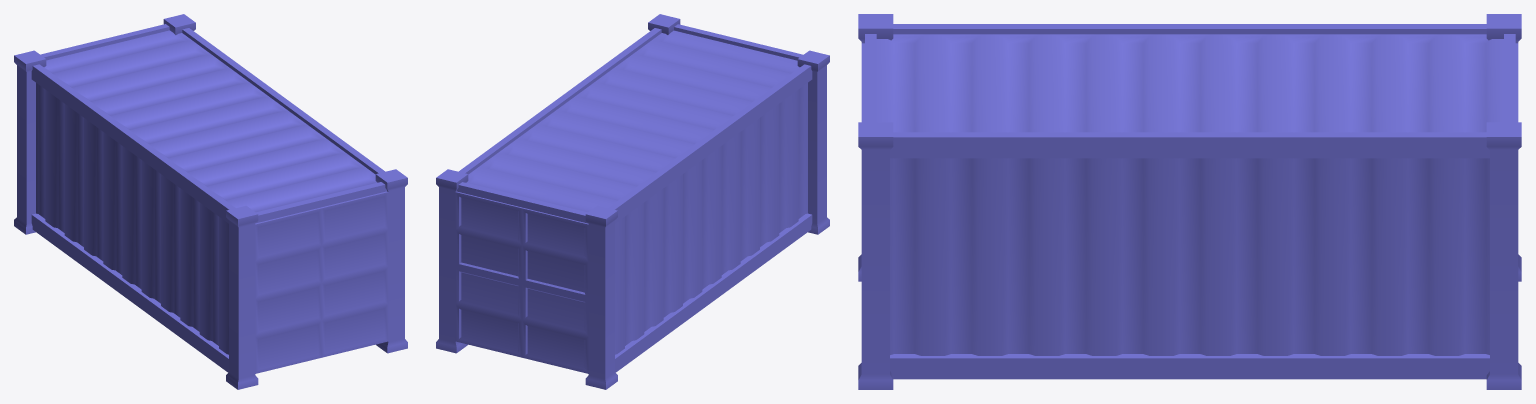
Rendered from ShippingContainer.fbx.
The picture shows the model from 3 angles, left to right: view 1: azimuth 30°, elevation 25°; view 2: azimuth 150°, elevation 25°; view 3: azimuth 270°, elevation 25°; orthographic projection. The views are drawn at different scales.
Visible parts, largest first — view 1: Container, Door_2, Door_1; view 2: Container, Door_4, Door_3; view 3: Container.
Boxes of the visible parts, bbox=[...] form: Container: bbox=[14, 14, 407, 389]; Door_2: bbox=[321, 191, 388, 357]; Door_1: bbox=[255, 207, 321, 373]; Container: bbox=[436, 14, 829, 389]; Door_4: bbox=[455, 191, 522, 357]; Door_3: bbox=[522, 208, 588, 373]; Container: bbox=[858, 14, 1521, 389].
Bounding box in the file's own units: 250 × 240 × 570.
